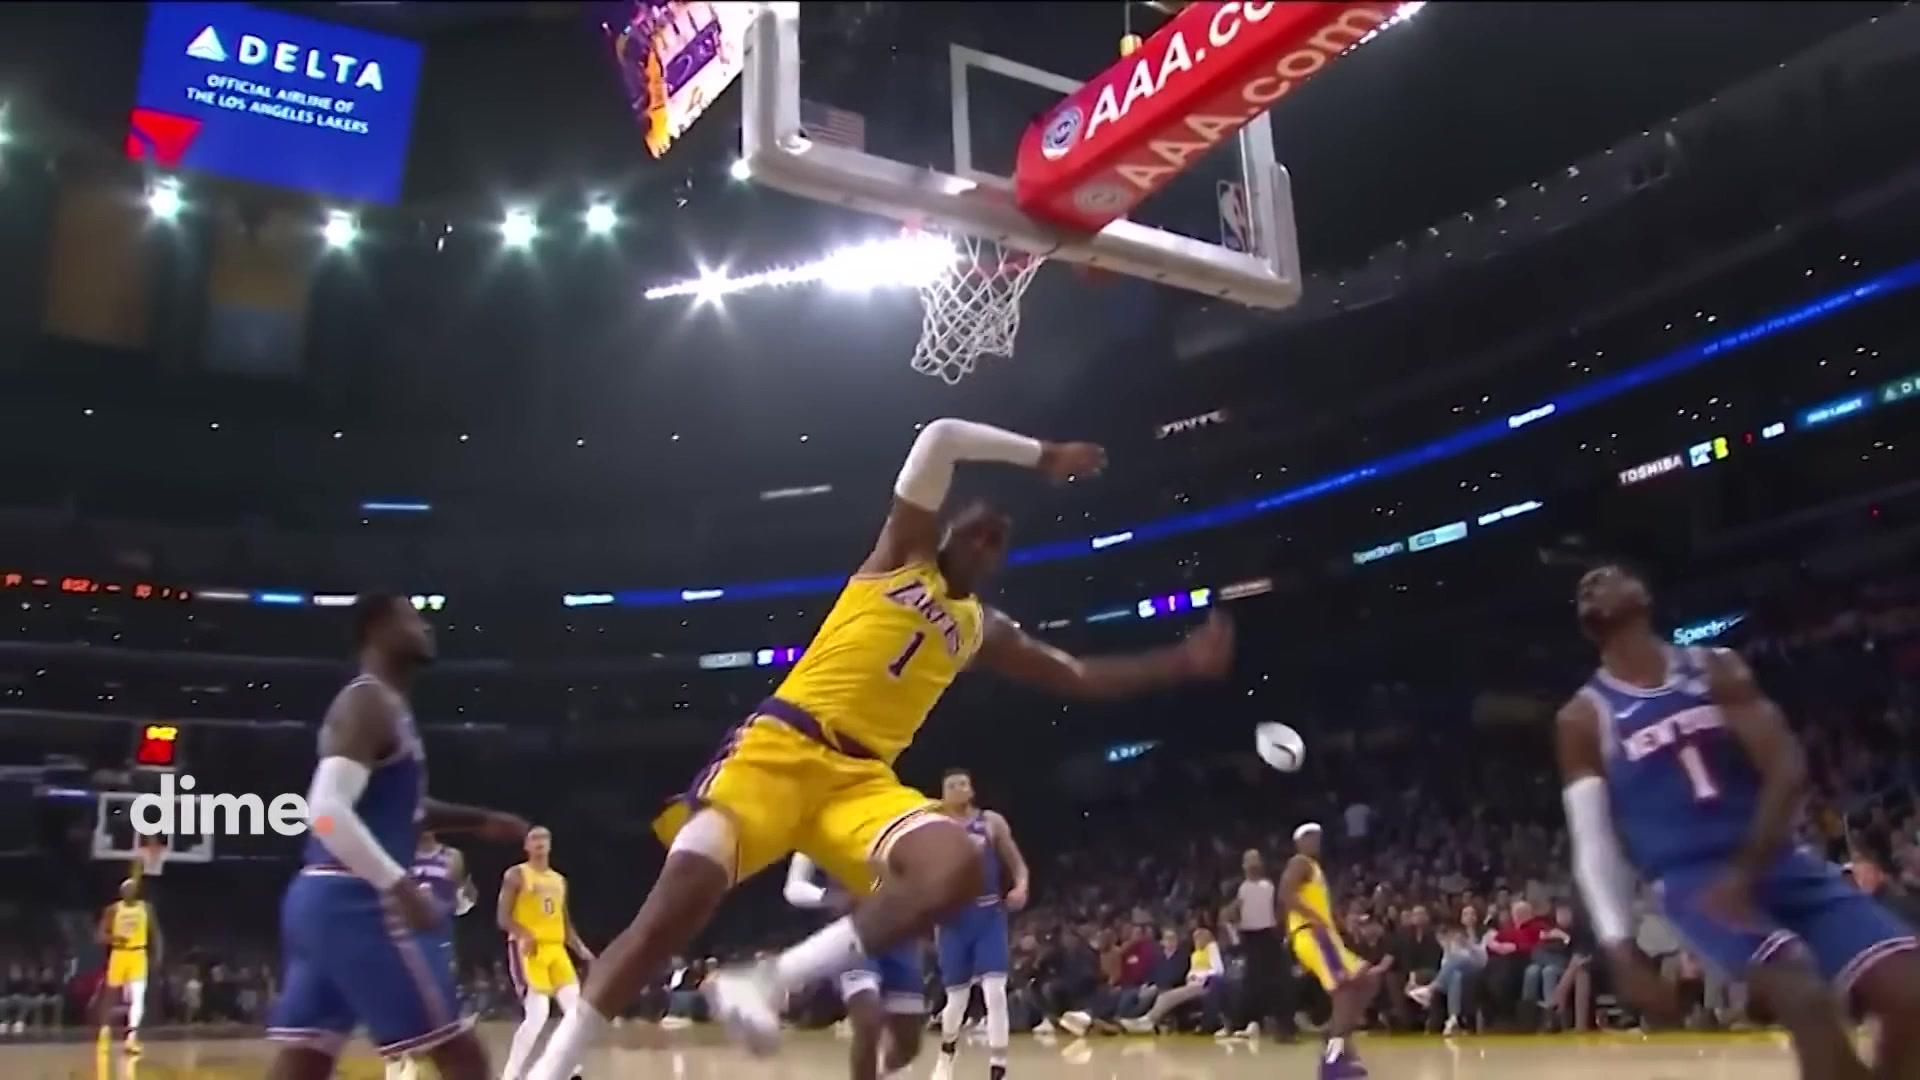no_foul: (640, 347, 1155, 1027)
